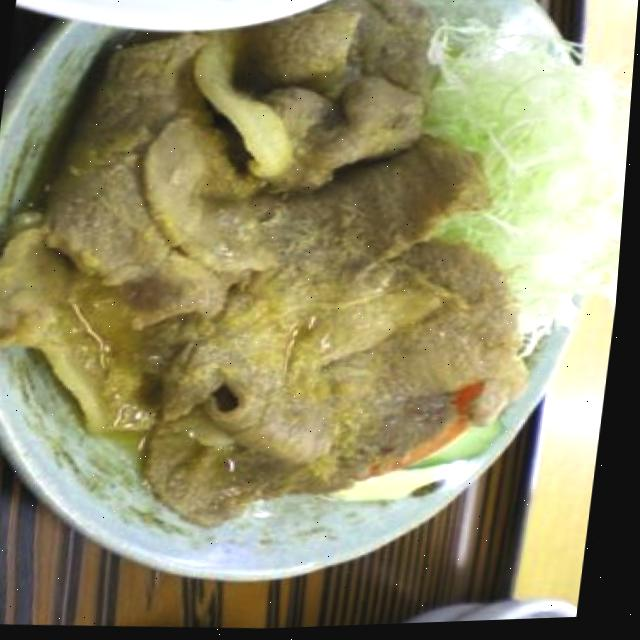猪肉菜式: (0, 0, 580, 544)
